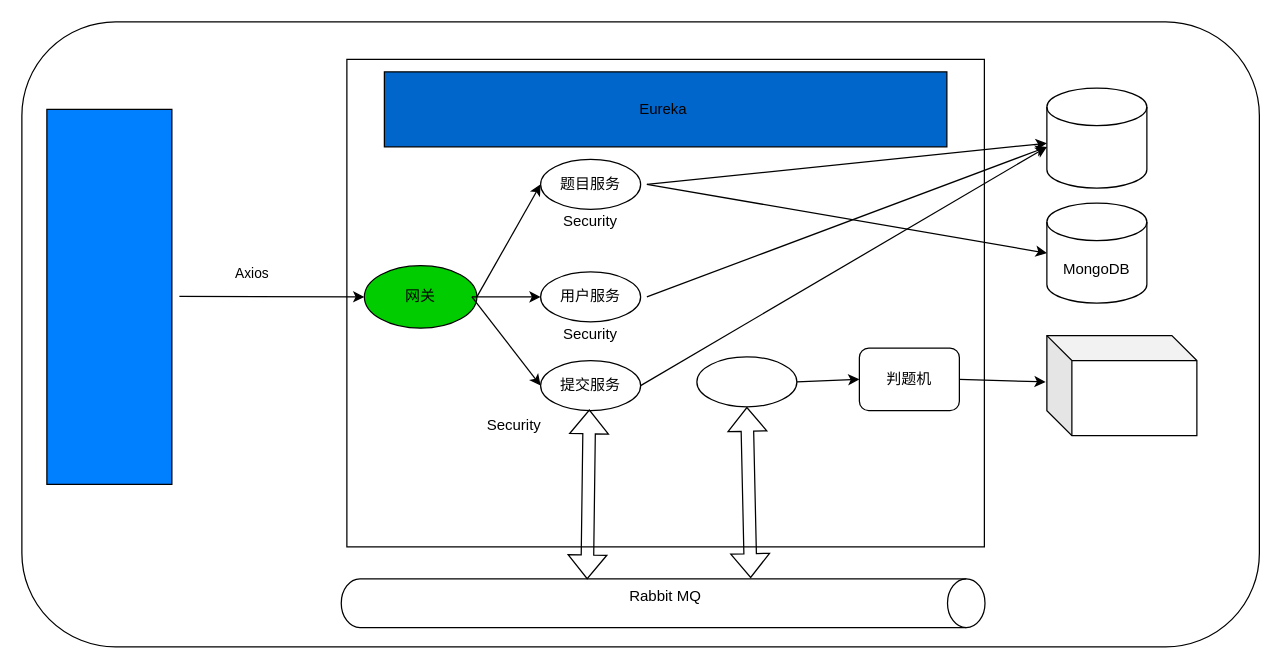
This 1281x669 diagram has some shape labels left out. The box of each missing label's shape, as (x1, y1, x2, y2) in pixels:
PostgreSQL: (1046, 87, 1147, 188)
Vue + TS 前端: (46, 108, 172, 484)
代码沙箱 Ludd-sandbox: (1046, 334, 1197, 436)
判题服务: (696, 356, 797, 407)
